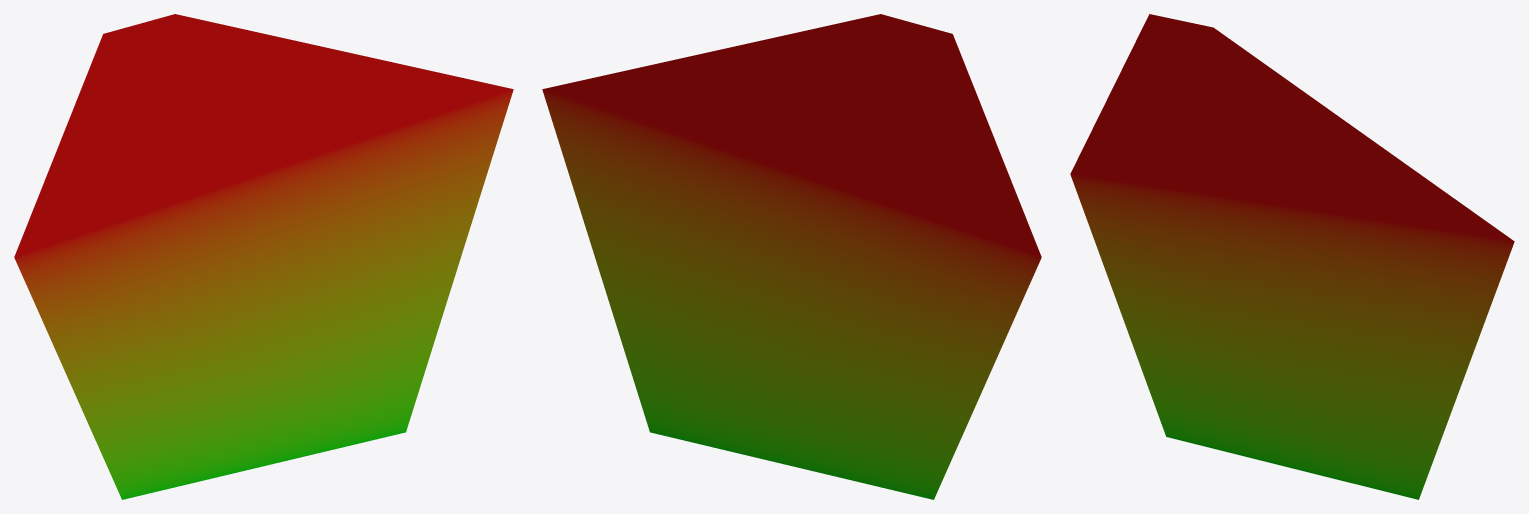
Rendered from Desert Cotton_LOD6_Var6_xeogciyqx.fbx.
The picture shows the model from 3 angles, left to right: view 1: azimuth 30°, elevation 25°; view 2: azimuth 150°, elevation 25°; view 3: azimuth 330°, elevation 25°; orthographic projection. The views are drawn at different scales.
Visible parts, largest first — view 1: _jct0_Var6_LOD6; view 2: _jct0_Var6_LOD6; view 3: _jct0_Var6_LOD6.
Part boxes in pixels (left/top/right/bottom): _jct0_Var6_LOD6: left=14, top=14, right=513, bottom=499; _jct0_Var6_LOD6: left=542, top=14, right=1041, bottom=499; _jct0_Var6_LOD6: left=1070, top=14, right=1514, bottom=499.
Bounding box in the file's own units: 41.29 × 37.49 × 6.11e-06.
